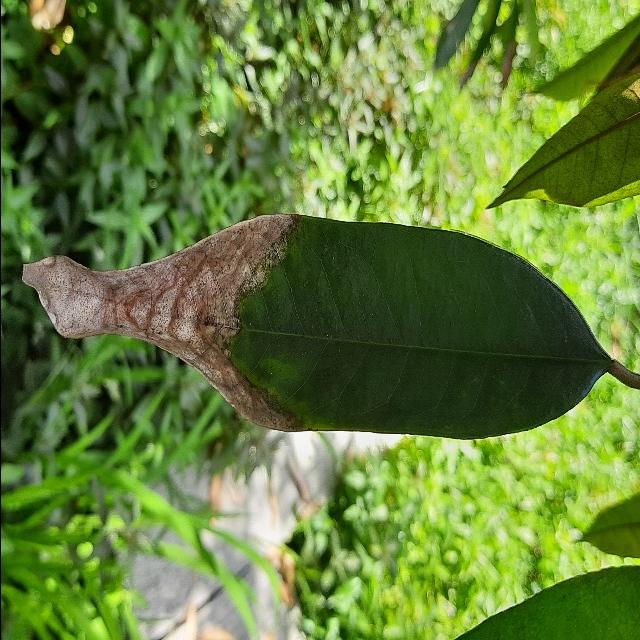Leaf Blight: (15, 206, 615, 447)
